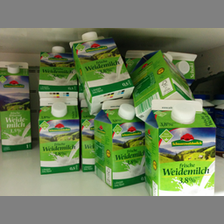milk: (144, 98, 217, 196), (67, 29, 136, 107), (91, 99, 146, 190), (33, 91, 80, 176), (1, 58, 34, 152), (38, 43, 79, 93)
